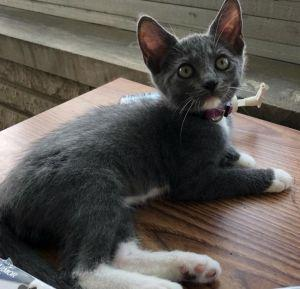rblue: (136, 1, 264, 137)
